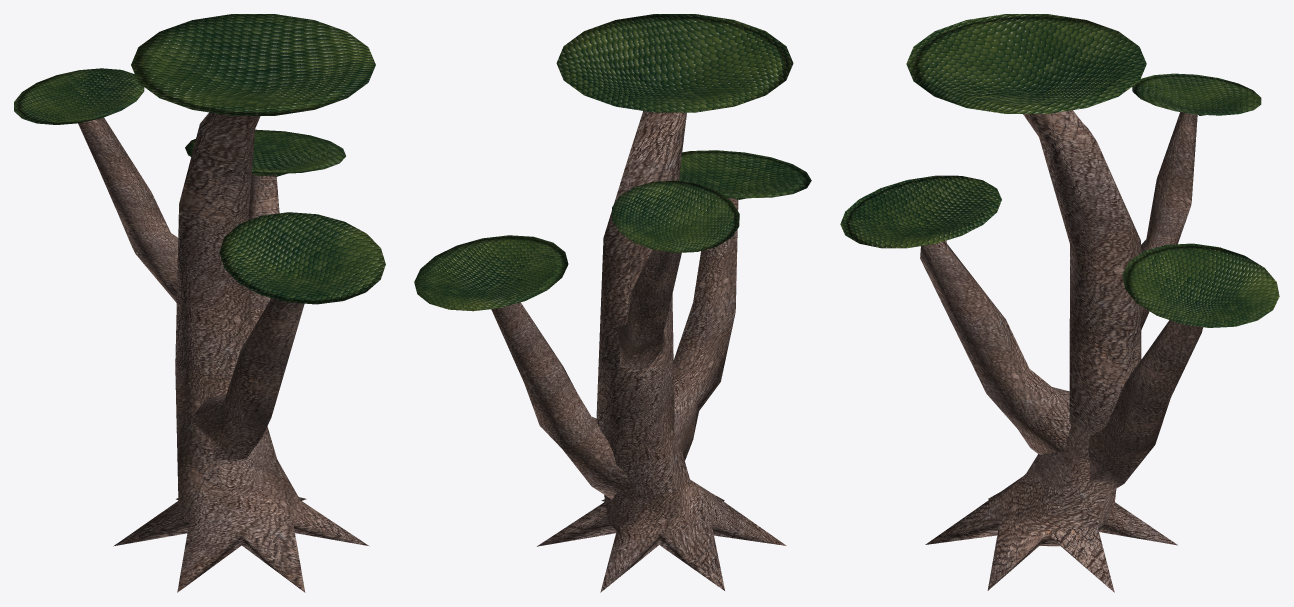
File: Tree02.glb
The picture shows the model from 3 angles, left to right: view 1: azimuth 30°, elevation 25°; view 2: azimuth 150°, elevation 25°; view 3: azimuth 270°, elevation 25°; orthographic projection. The views are drawn at different scales.
Visible parts, largest first — view 1: Cylinder.003, Cylinder.005; view 2: Cylinder.003, Cylinder.005; view 3: Cylinder.003, Cylinder.005.
Part boxes in pixels (x1,y1,x2,y2): Cylinder.003: (78,112,369,592); Cylinder.005: (14,14,385,304); Cylinder.003: (491,111,786,592); Cylinder.005: (414,14,811,311); Cylinder.003: (920,110,1202,592); Cylinder.005: (840,14,1279,327).
Size of the model in its own units: 6.06 by 9.01 by 7.45.
2 materials, 2 textured.
